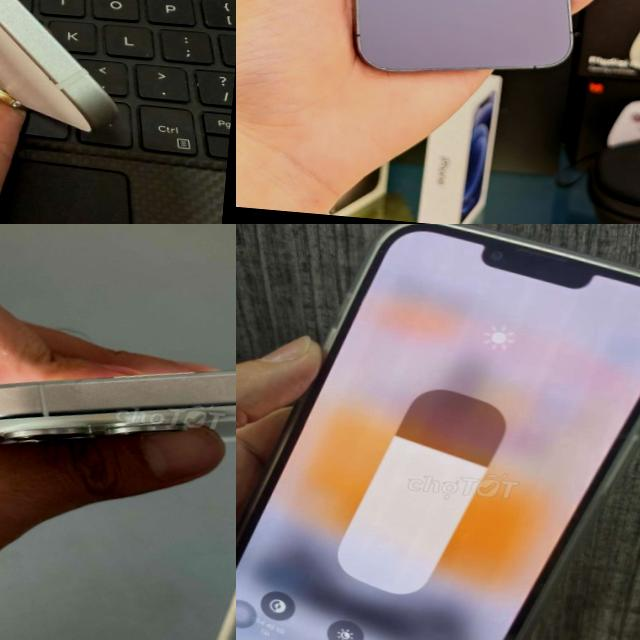gen_12_13: (236, 224, 640, 640)
gen_14: (312, 0, 606, 91)
gen_15: (0, 329, 236, 498), (0, 0, 164, 155)
scratch: (162, 382, 170, 388)
